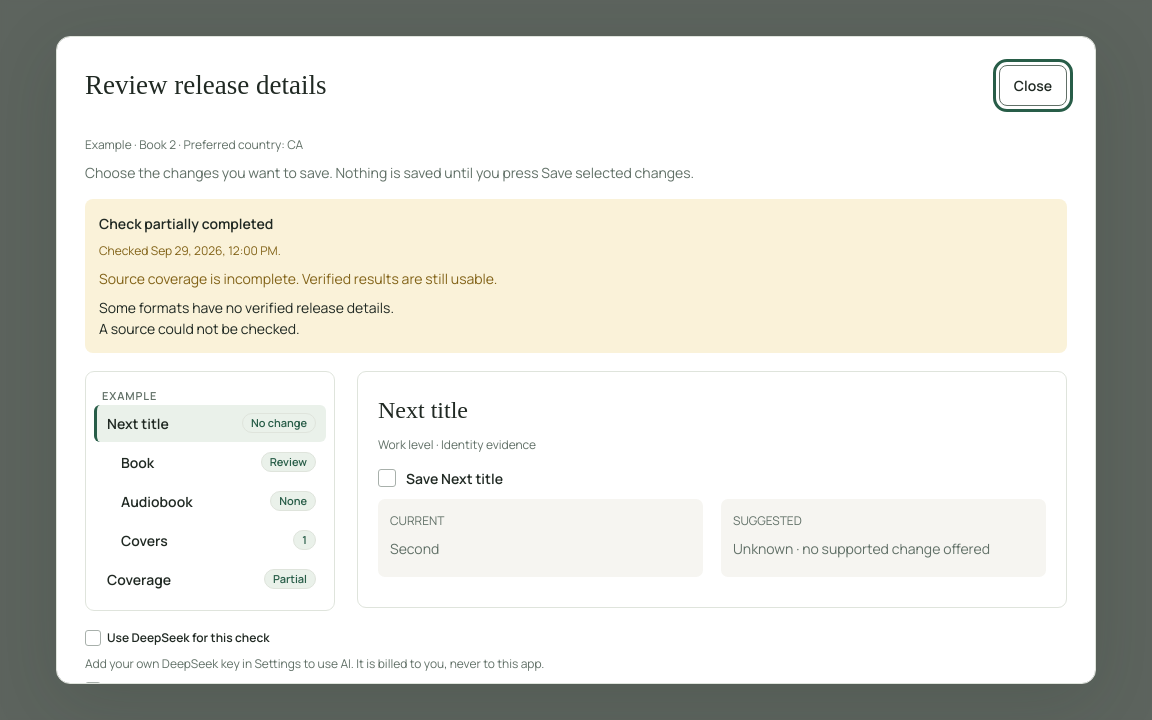
it: provider trouble is stated even when another source supplied a valid image
Click the tab "Covers 1".
click(217, 540)  # box [108, 522, 326, 558]
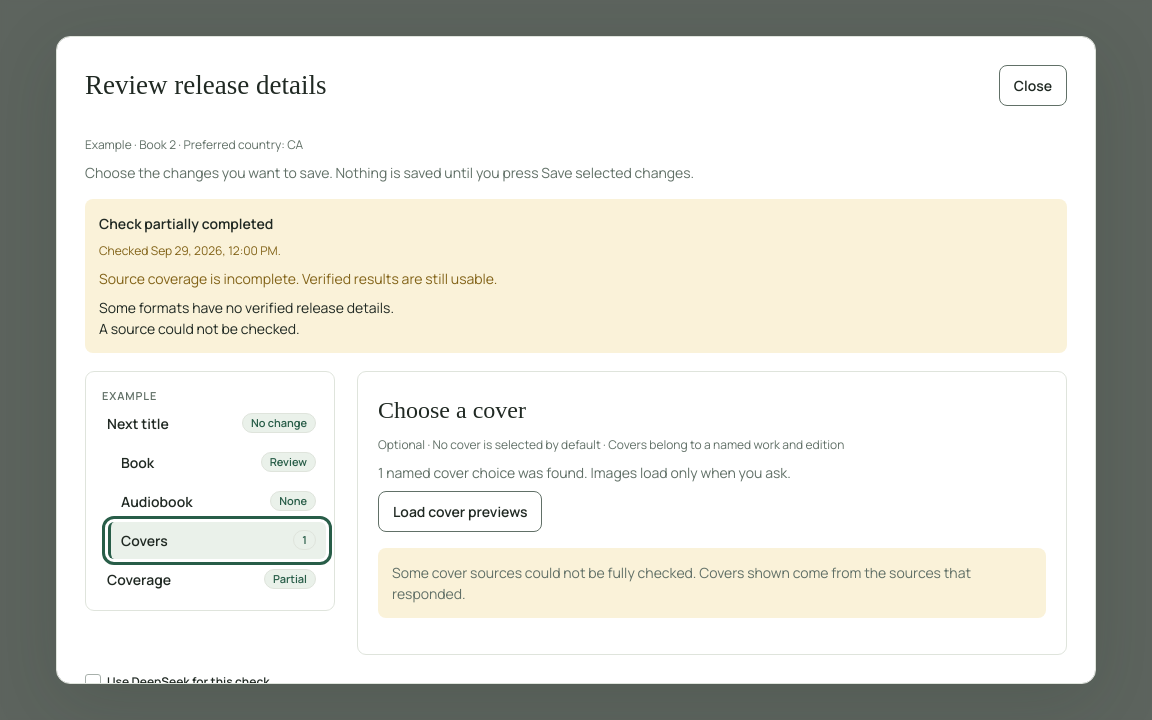
Click the button "Load cover previews".
click(460, 511)  # box [378, 490, 542, 532]
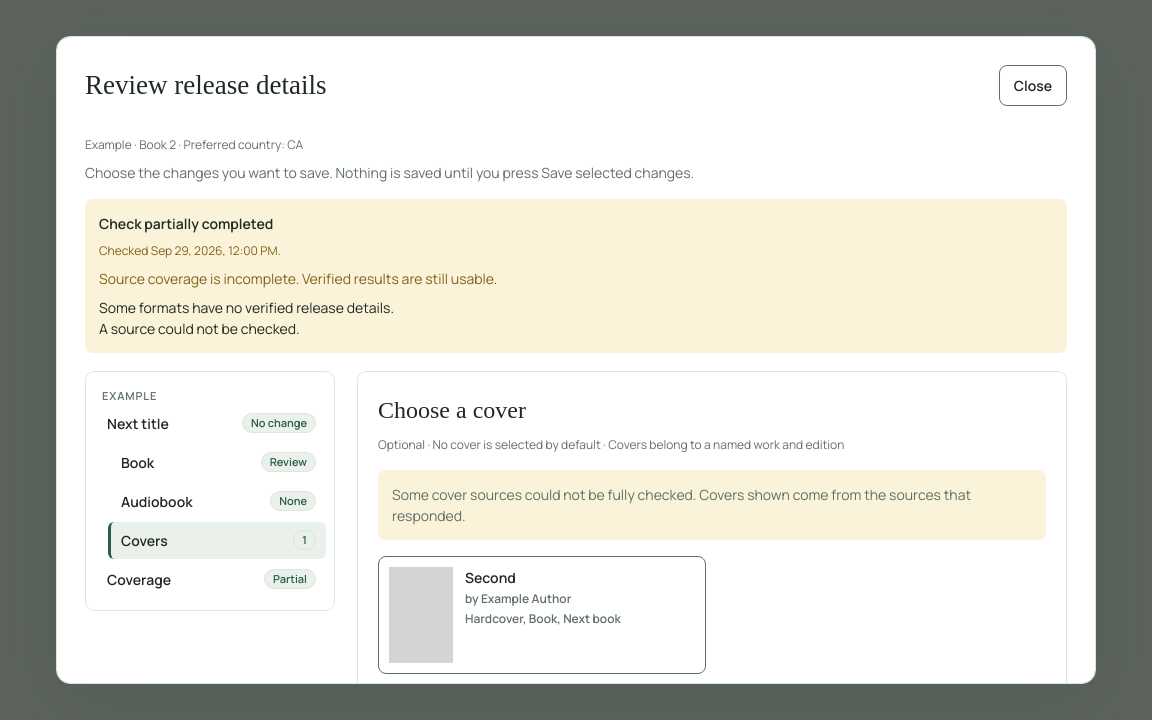
Result: the text "Some cover sources could not be fully checked" is shown at [392, 484, 971, 524]
Result: the element named "Cover choices" is shown at [378, 556, 706, 674]
